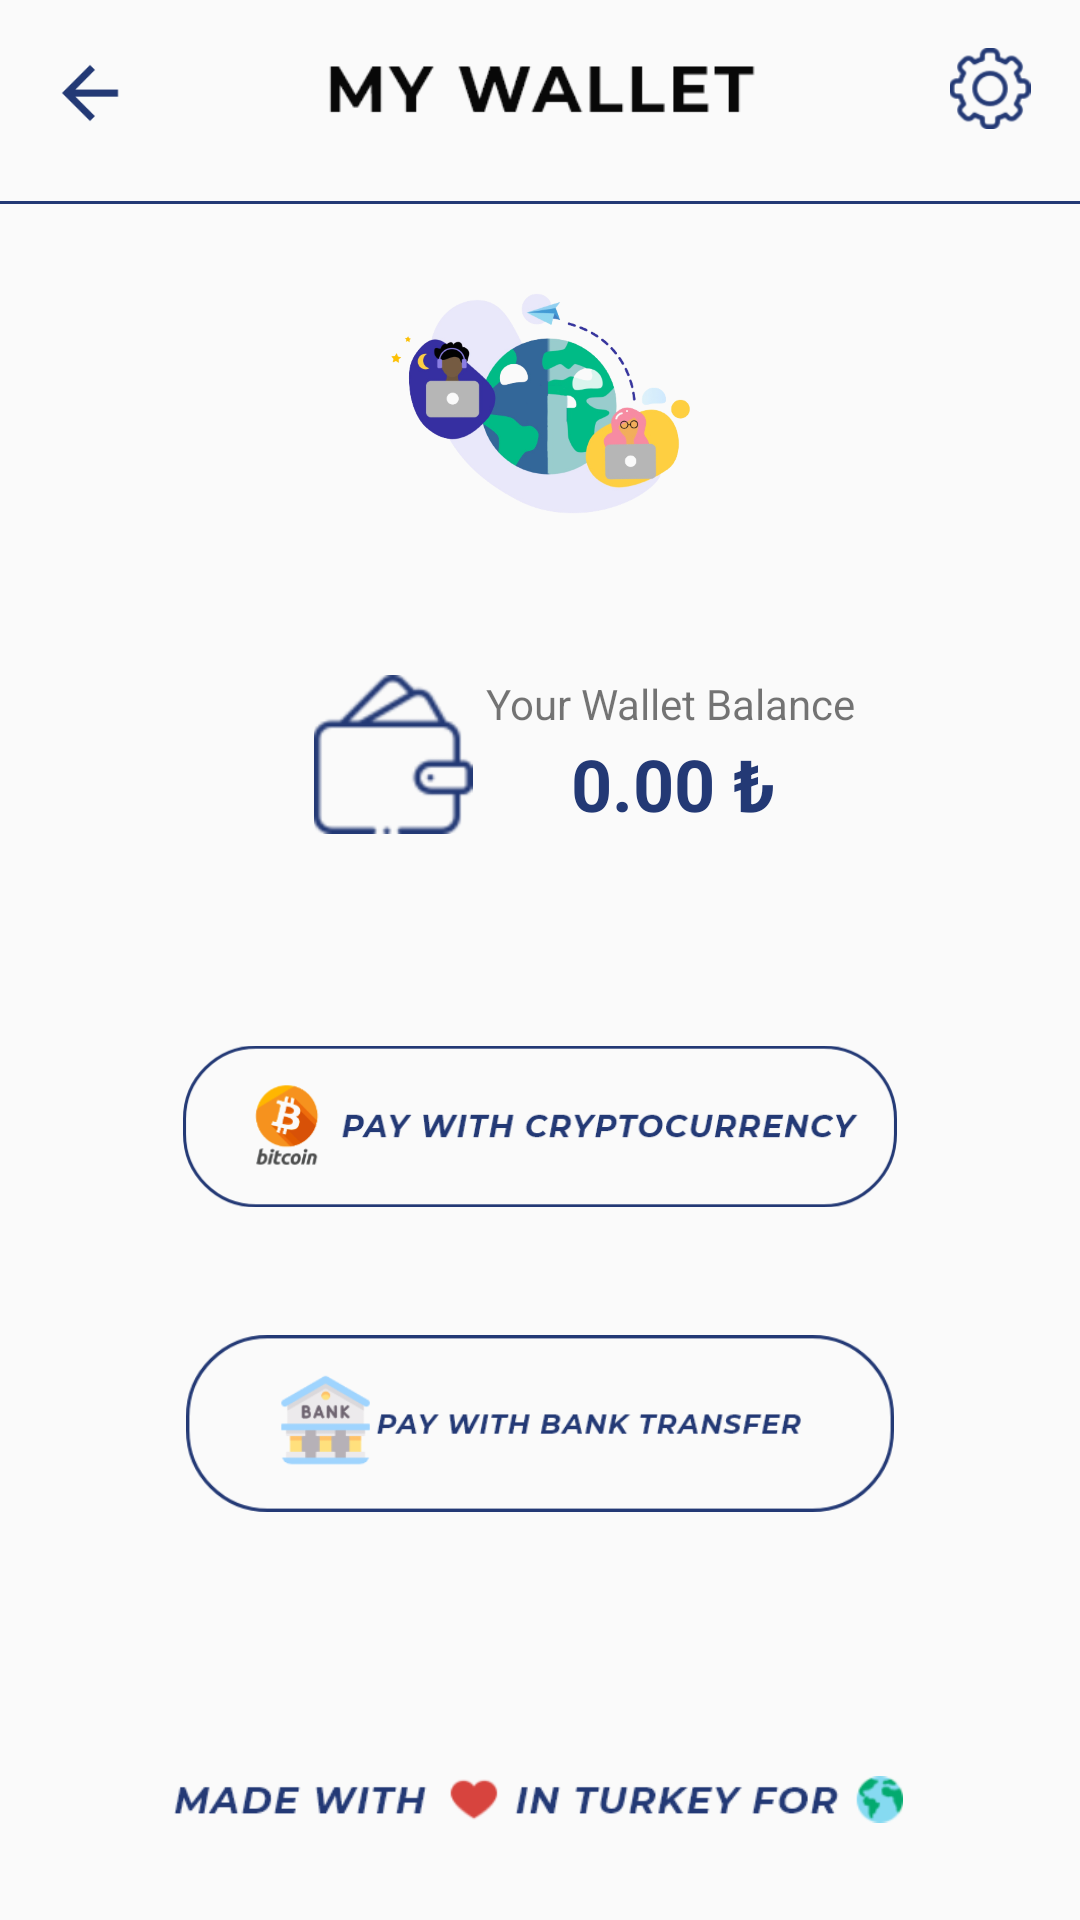

Locate icon controls on the screen. Image size 1080 × 1920, boxes as BBox(x1, y1, x2, y2).
arrow back: BBox(62, 65, 119, 121)
settings: BBox(950, 48, 1031, 129)
walletblue: BBox(314, 675, 473, 834)
